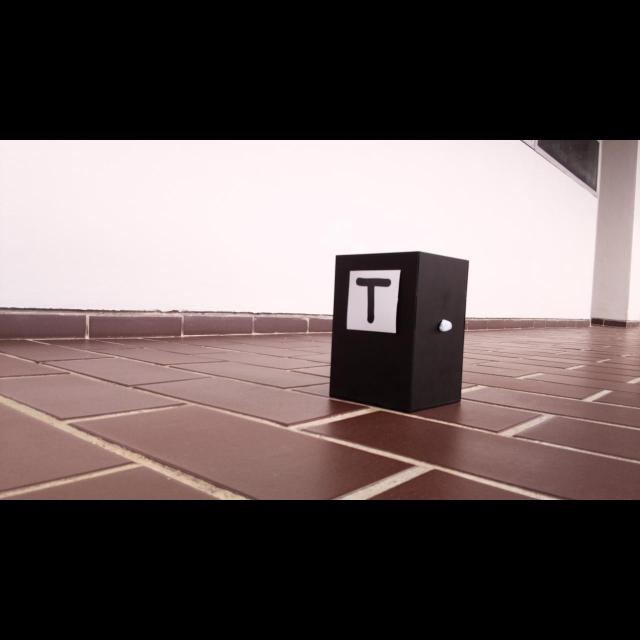T: (355, 278, 391, 324)
